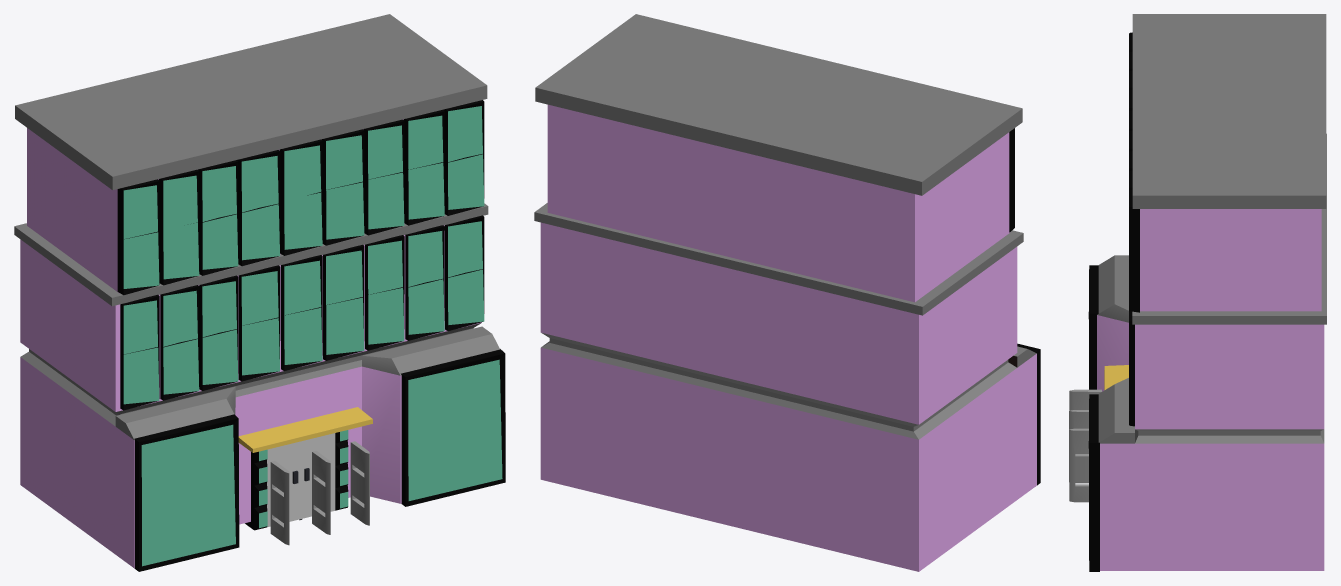
Rendered from LojaGenerica2RosaLOD1.fbx.
The picture shows the model from 3 angles, left to right: view 1: azimuth 30°, elevation 25°; view 2: azimuth 150°, elevation 25°; view 3: azimuth 270°, elevation 25°; orthographic projection. The views are drawn at different scales.
Parts seen in each view (by area): view 1: LojaGenerica2LOD1, SensoresLOD1; view 2: LojaGenerica2LOD1; view 3: LojaGenerica2LOD1, SensoresLOD1.
Boxes of the visible parts, left/top/right/bottom form: LojaGenerica2LOD1: left=14, top=14, right=505, bottom=571; SensoresLOD1: left=270, top=441, right=369, bottom=545; LojaGenerica2LOD1: left=534, top=14, right=1040, bottom=571; LojaGenerica2LOD1: left=1088, top=14, right=1326, bottom=571; SensoresLOD1: left=1069, top=389, right=1101, bottom=502.
Bounding box in the file's own units: 1094 × 1077 × 653.
1 material, 1 textured.
